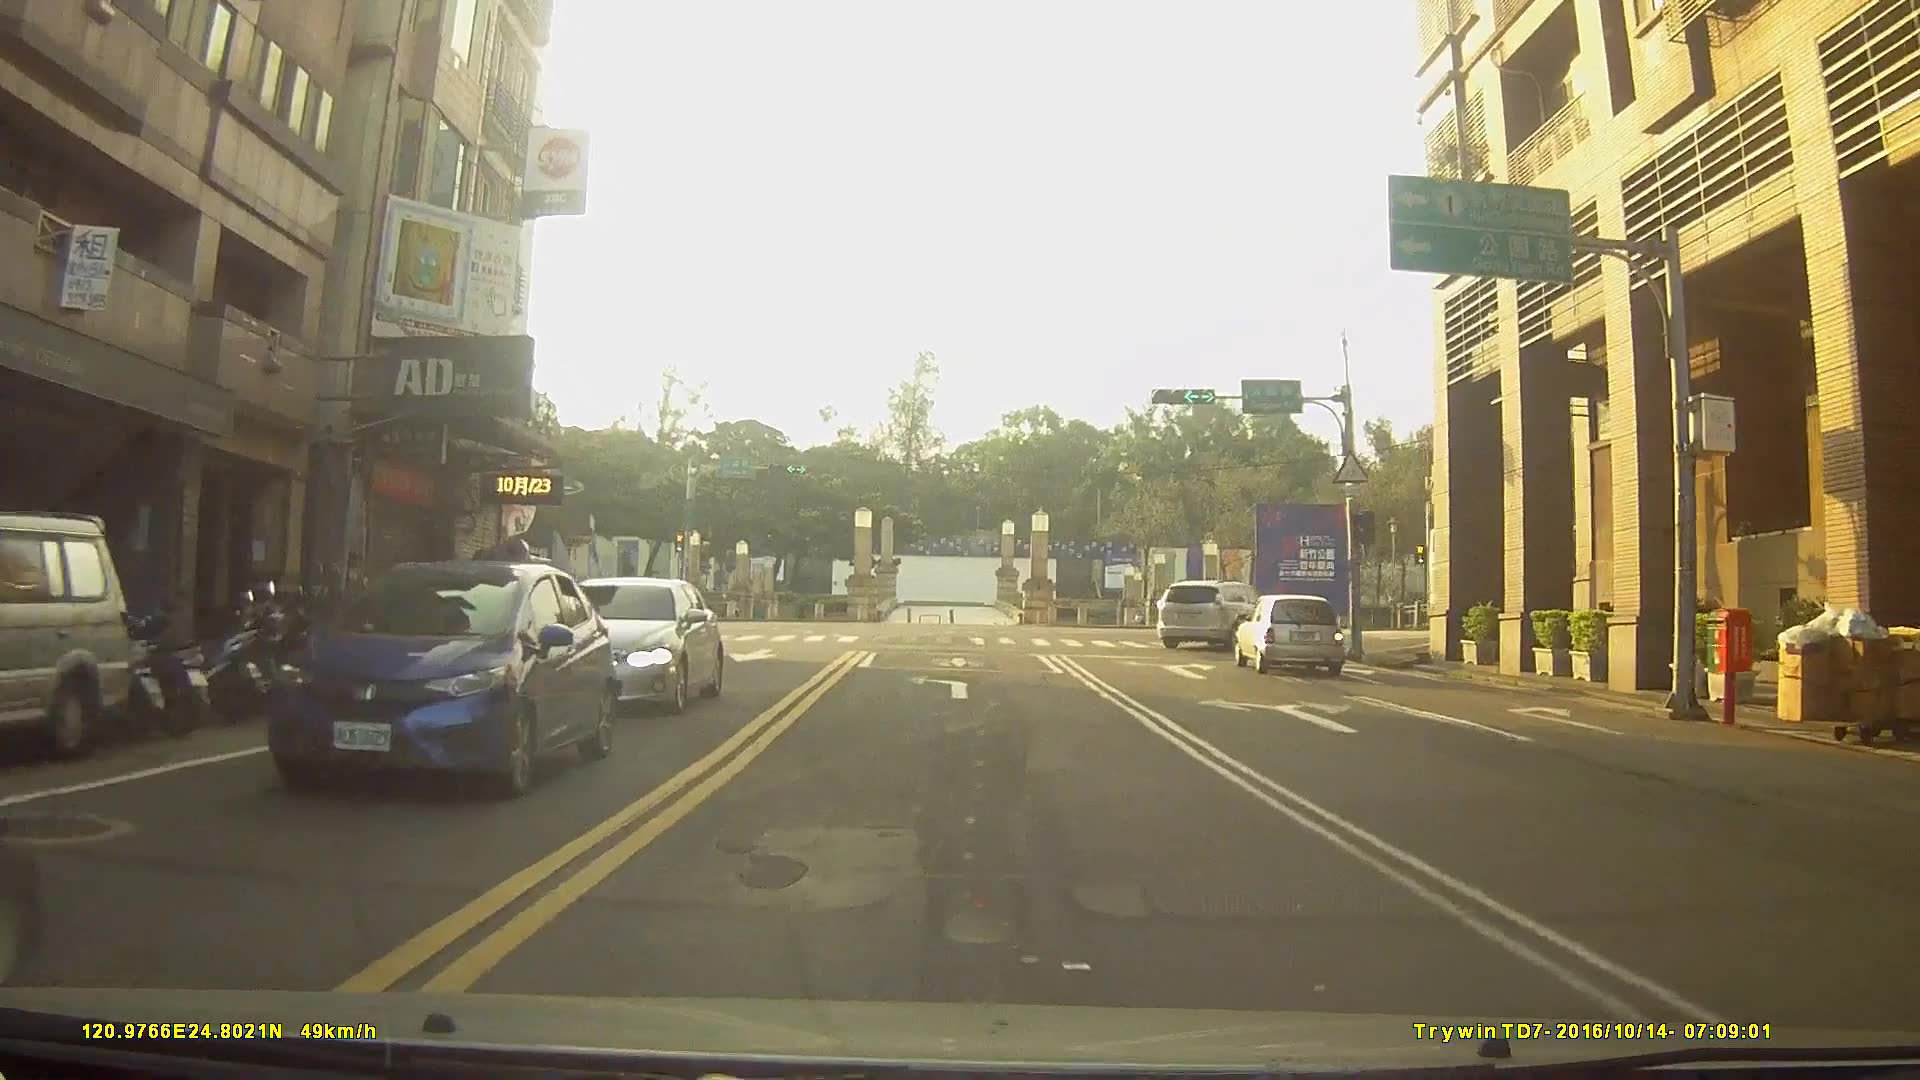rider: (1, 434, 21, 1080)
vehicle: (265, 558, 615, 800), (0, 508, 131, 760), (530, 575, 720, 713), (1232, 590, 1342, 673), (1155, 579, 1268, 648)
